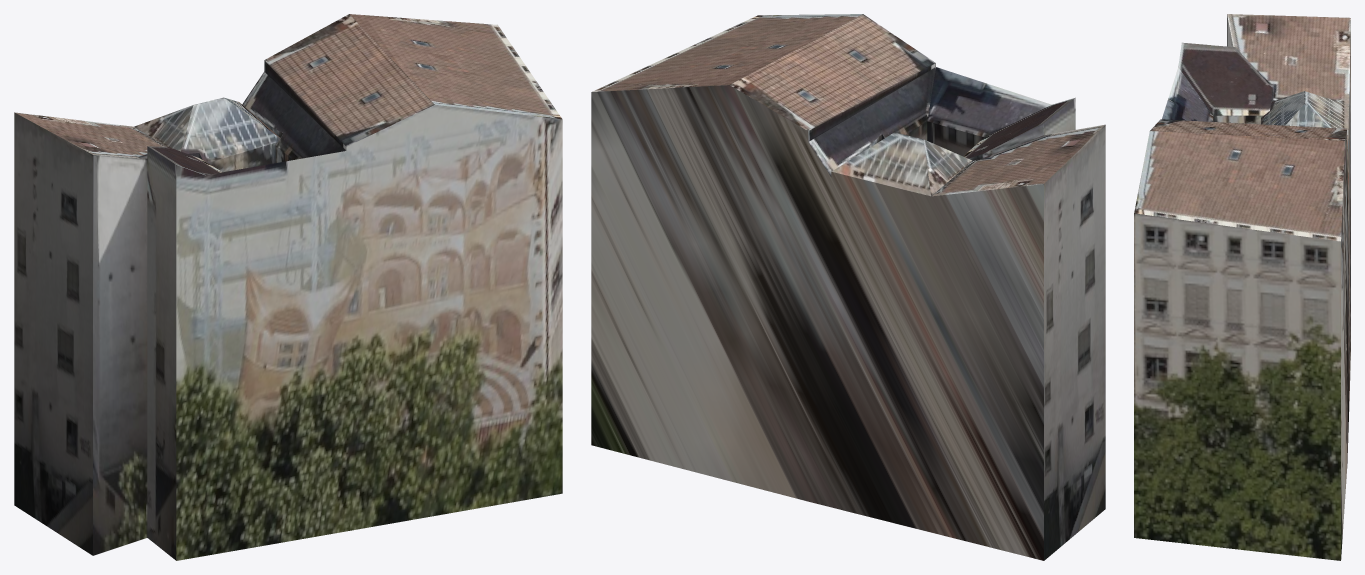
The picture shows the model from 3 angles, left to right: view 1: azimuth 30°, elevation 25°; view 2: azimuth 150°, elevation 25°; view 3: azimuth 270°, elevation 25°; orthographic projection. The views are drawn at different scales.
Parts seen in each view (by area): view 1: Z_UP; view 2: Z_UP; view 3: Z_UP.
Part boxes in pixels (x1,y1,x2,y2): Z_UP: (14,14,562,560); Z_UP: (591,14,1105,560); Z_UP: (1134,14,1350,560).
Size of the model in its own units: 26.88 by 22.2 by 12.18.
Materials: 2 (1 with a texture image).
